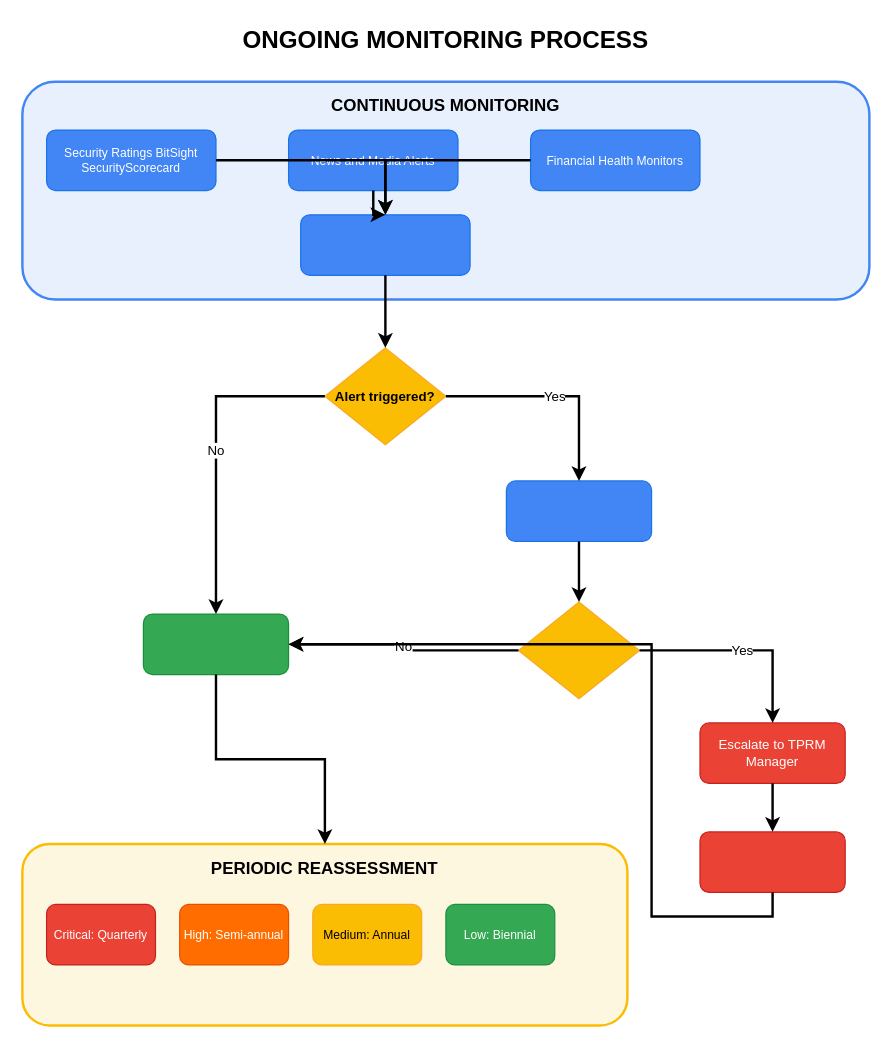
Image size: 891x1047. Some labels were removed from this diagram. The centre of each missing label's shape, as x and y in pixels:
Alert Dashboard: point (384, 244)
Document in AuditBoard: point (215, 644)
Initiate reassessment: point (772, 861)
Material impact?: point (578, 650)
TPRM Analyst investigates: point (578, 510)
